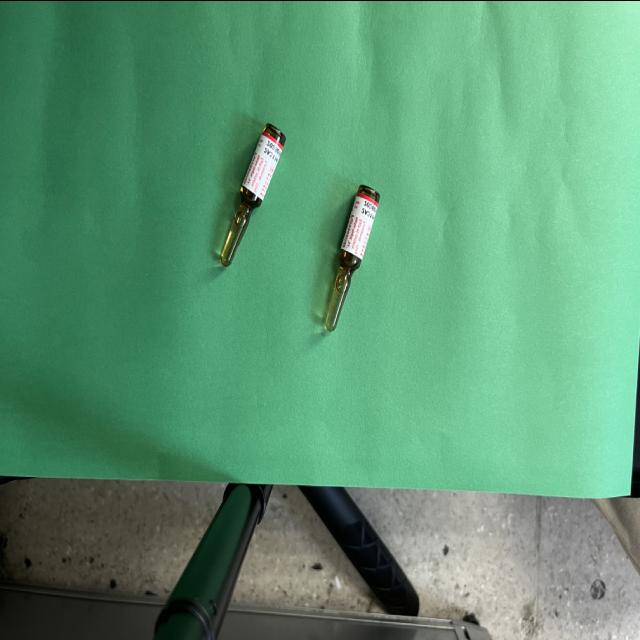Ampoules: (220, 123, 286, 266), (324, 184, 380, 331)
